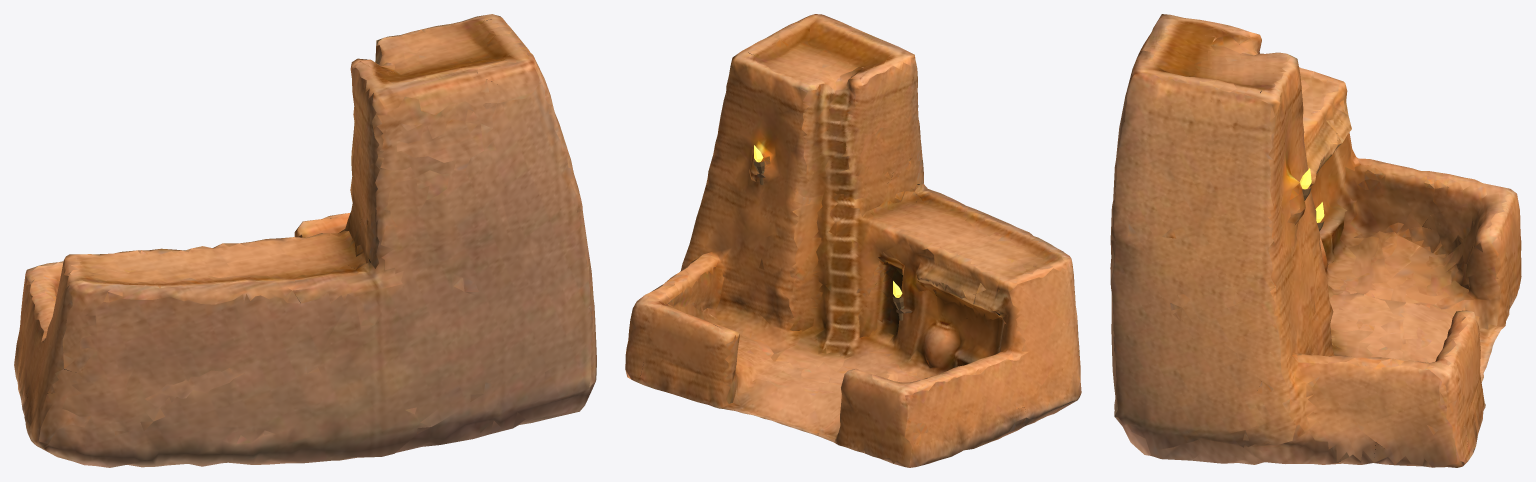
The model's file is watch-house-sf3d.glb.
3 renders of one model, left to right at view 1: azimuth 30°, elevation 25°; view 2: azimuth 150°, elevation 25°; view 3: azimuth 270°, elevation 25°, orthographic. The views are drawn at different scales.
Visible parts, largest first — view 1: world; view 2: world; view 3: world.
Part boxes in pixels (left/top/right/bottom): world: left=14, top=14, right=596, bottom=467; world: left=625, top=14, right=1081, bottom=467; world: left=1110, top=14, right=1521, bottom=467.
Bounding box in the file's own units: 0.9454 × 0.6377 × 0.6639.
5 materials, 1 textured.
